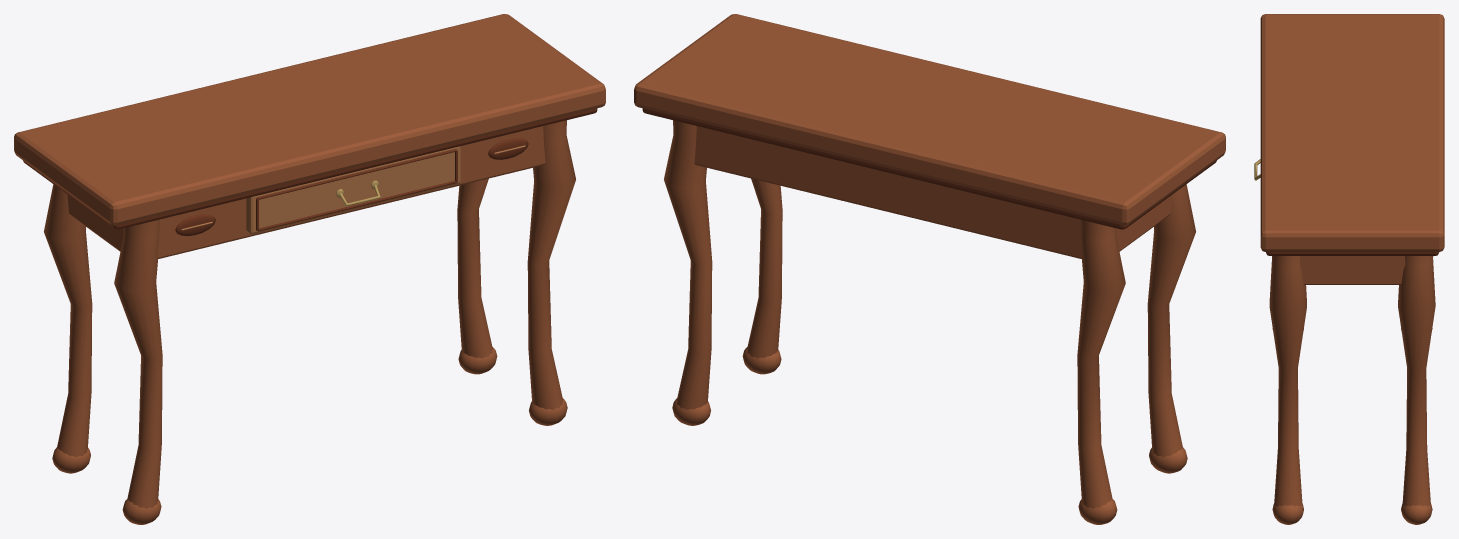
The model's file is table_console_carved.glb.
3 views of the same model, side by side, from view 1: azimuth 30°, elevation 25°; view 2: azimuth 150°, elevation 25°; view 3: azimuth 270°, elevation 25° (orthographic). The views are drawn at different scales.
Parts seen in each view (by area): view 1: Console top, Curved cabriole leg, Curved cabriole leg.002, Curved cabriole leg.001, Single central drawer face, Front and rear apron, Curved cabriole leg.003, Console molded underside, Side apron, Drawer horizontal molding.001, Drawer horizontal molding, Carved rounded console foot; view 2: Console top, Front and rear apron.001, Curved cabriole leg.001, Curved cabriole leg.003, Curved cabriole leg, Curved cabriole leg.002, Console molded underside, Side apron, Carved rounded console foot.001; view 3: Console top, Curved cabriole leg.002, Curved cabriole leg.003, Side apron.001, Console molded underside, Carved rounded console foot.002, Carved rounded console foot.003.
Part boxes in pixels (bbox=[...]): Console top: bbox=[14, 14, 605, 225]; Curved cabriole leg: bbox=[114, 219, 162, 508]; Curved cabriole leg.002: bbox=[527, 120, 575, 409]; Curved cabriole leg.001: bbox=[44, 184, 92, 457]; Single central drawer face: bbox=[246, 146, 460, 233]; Front and rear apron: bbox=[157, 126, 545, 258]; Curved cabriole leg.003: bbox=[457, 178, 492, 358]; Console molded underside: bbox=[23, 108, 597, 229]; Side apron: bbox=[67, 194, 123, 251]; Drawer horizontal molding.001: bbox=[257, 149, 456, 199]; Drawer horizontal molding: bbox=[258, 180, 456, 231]; Carved rounded console foot: bbox=[122, 499, 161, 524]; Console top: bbox=[634, 14, 1225, 225]; Front and rear apron.001: bbox=[694, 126, 1082, 258]; Curved cabriole leg.001: bbox=[1077, 219, 1125, 508]; Curved cabriole leg.003: bbox=[664, 120, 712, 409]; Curved cabriole leg: bbox=[1147, 184, 1195, 457]; Curved cabriole leg.002: bbox=[747, 178, 782, 358]; Console molded underside: bbox=[642, 108, 1216, 229]; Side apron: bbox=[1116, 194, 1172, 251]; Carved rounded console foot.001: bbox=[1078, 499, 1117, 524]; Console top: bbox=[1260, 14, 1444, 251]; Curved cabriole leg.002: bbox=[1269, 256, 1306, 506]; Curved cabriole leg.003: bbox=[1398, 256, 1435, 506]; Side apron.001: bbox=[1299, 256, 1405, 284]; Console molded underside: bbox=[1266, 252, 1439, 255]; Carved rounded console foot.002: bbox=[1272, 503, 1303, 524]; Carved rounded console foot.003: bbox=[1401, 503, 1432, 524].
Bounding box in the file's own units: 1.22 × 0.7995 × 0.4442.
